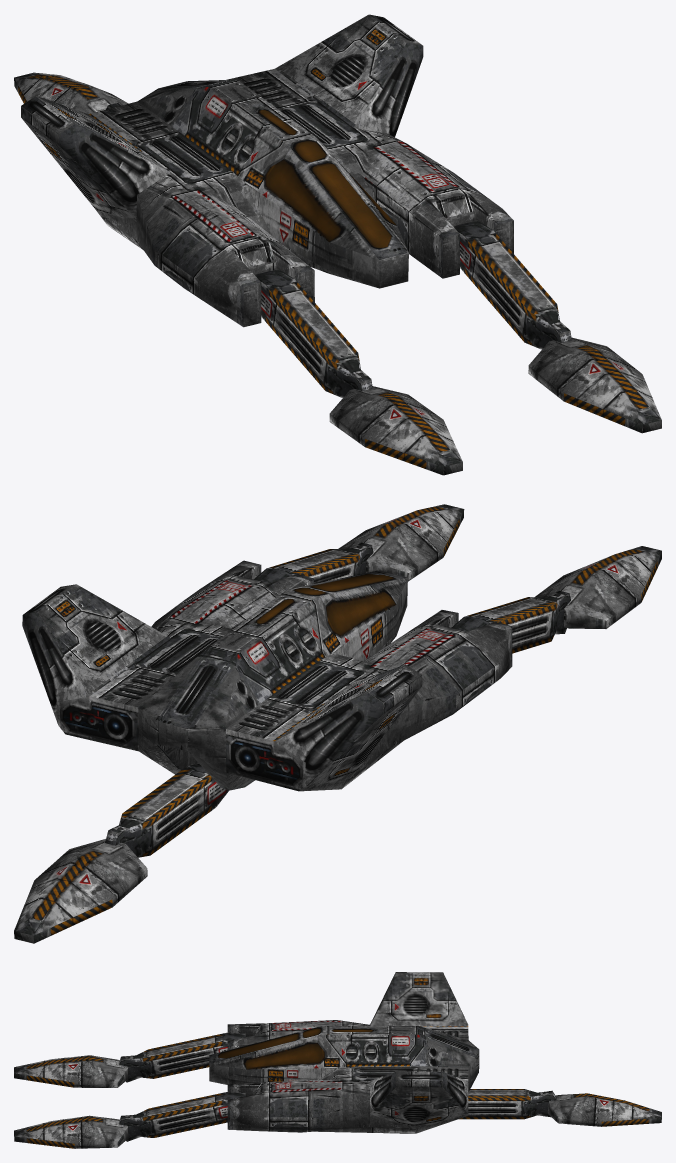
File: loki.glb
3 views of the same model, one above another, from view 1: azimuth 30°, elevation 25°; view 2: azimuth 150°, elevation 25°; view 3: azimuth 270°, elevation 25° (orthographic). The views are drawn at different scales.
Visible parts, largest first — view 1: Loki Body, Loki Left Foot, Loki Right Foot, Loki Left Leg, Loki Right Leg, Loki Middle Foot; view 2: Loki Body, Loki Middle Foot, Loki Right Foot, Loki Middle Leg, Loki Left Foot, Loki Right Leg, Loki Left Leg; view 3: Loki Body, Loki Left Leg, Loki Right Leg, Loki Left Foot, Loki Middle Foot, Loki Right Foot, Loki Middle Leg.
Part boxes in pixels (x1,y1,x2,y2): Loki Body: (21, 14, 513, 327); Loki Left Foot: (528, 337, 661, 433); Loki Right Foot: (329, 386, 462, 475); Loki Left Leg: (453, 220, 571, 349); Loki Right Leg: (255, 269, 372, 397); Loki Middle Foot: (14, 72, 128, 113); Loki Body: (22, 560, 512, 791); Loki Middle Foot: (14, 839, 147, 943); Loki Right Foot: (535, 546, 661, 628); Loki Middle Leg: (105, 763, 228, 857); Loki Left Foot: (338, 504, 464, 581); Loki Right Leg: (451, 590, 570, 653); Loki Left Leg: (253, 542, 373, 583); Loki Body: (209, 972, 479, 1133); Loki Left Leg: (119, 1092, 246, 1141); Loki Right Leg: (119, 1032, 246, 1082); Loki Left Foot: (14, 1115, 128, 1148); Loki Middle Foot: (548, 1093, 661, 1126); Loki Right Foot: (14, 1055, 128, 1087); Loki Middle Leg: (459, 1089, 556, 1119).
Size of the model in its own units: 698 by 293 by 1763.
Materials: 1 (1 with a texture image).
